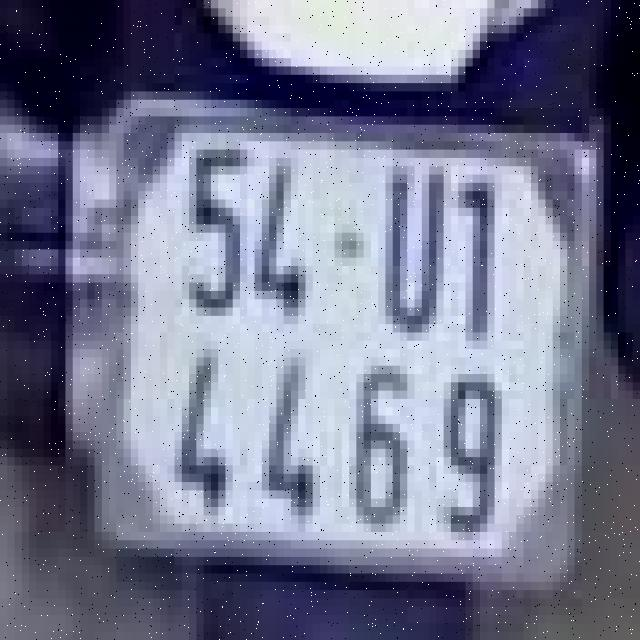1: (451, 154, 509, 353)
4: (171, 336, 244, 520), (262, 345, 334, 528), (247, 154, 313, 328)
5: (178, 133, 258, 332)
6: (342, 345, 422, 536)
9: (436, 362, 509, 552)
U: (375, 150, 447, 340)
